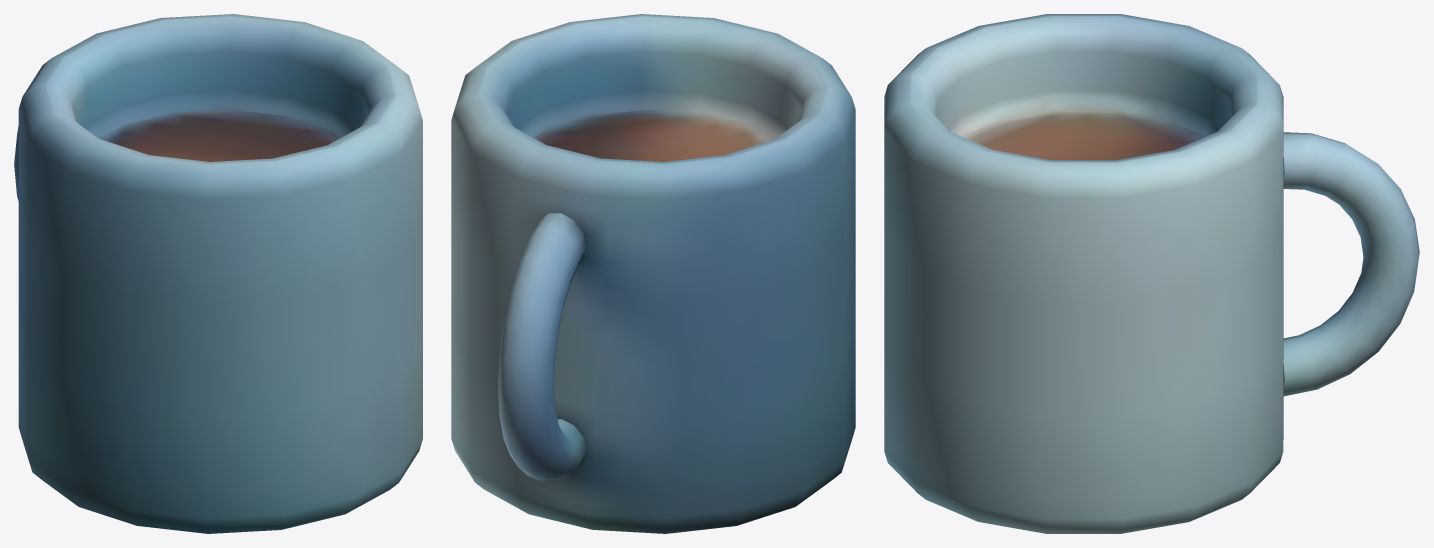
Rendered from coffee-mug.glb.
The picture shows the model from 3 angles, left to right: view 1: azimuth 30°, elevation 25°; view 2: azimuth 150°, elevation 25°; view 3: azimuth 270°, elevation 25°; orthographic projection.
Visible parts, largest first — view 1: Coffee_Mug_Fourth_Raycaster_Hover; view 2: Coffee_Mug_Fourth_Raycaster_Hover; view 3: Coffee_Mug_Fourth_Raycaster_Hover.
Boxes of the visible parts, x1,y1,x2,y2 form: Coffee_Mug_Fourth_Raycaster_Hover: [14, 14, 422, 533]; Coffee_Mug_Fourth_Raycaster_Hover: [451, 14, 855, 533]; Coffee_Mug_Fourth_Raycaster_Hover: [884, 14, 1419, 533].
Size of the model in its own units: 0.3314 by 0.3349 by 0.4445.
1 material, 1 textured.
